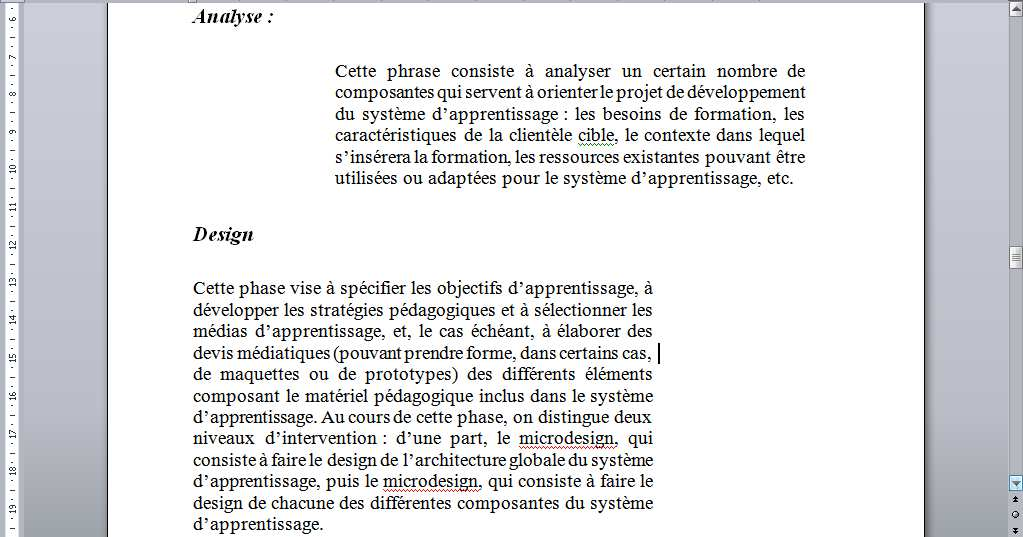texte: (631, 171, 761, 188), (509, 281, 638, 298), (256, 324, 385, 341), (194, 517, 322, 534), (193, 474, 320, 491), (432, 107, 558, 124), (193, 410, 317, 427), (336, 128, 456, 145), (188, 0, 262, 27), (688, 85, 805, 102), (389, 303, 495, 320), (519, 431, 618, 449), (383, 474, 482, 492), (374, 389, 473, 406), (237, 346, 330, 363), (365, 367, 458, 384), (458, 498, 559, 513), (336, 87, 434, 102), (194, 303, 279, 320), (266, 431, 377, 444), (403, 453, 506, 466), (194, 391, 279, 406), (311, 303, 383, 320), (535, 303, 627, 316), (539, 410, 609, 427), (220, 369, 299, 384), (438, 280, 502, 298), (429, 171, 496, 188), (334, 346, 401, 363), (546, 64, 611, 81), (341, 281, 406, 298), (193, 227, 253, 245), (363, 107, 425, 124), (564, 171, 626, 188), (591, 389, 653, 406), (591, 496, 653, 513), (695, 107, 776, 120), (371, 496, 451, 509), (592, 453, 653, 470), (432, 150, 511, 163), (404, 346, 463, 363), (705, 152, 771, 167), (538, 85, 613, 98), (336, 150, 411, 163), (509, 453, 565, 470), (503, 367, 575, 380), (387, 64, 440, 81), (472, 324, 534, 338), (586, 367, 652, 380), (457, 410, 507, 427), (327, 453, 377, 470), (616, 84, 663, 102), (194, 496, 243, 513), (557, 324, 621, 337), (1009, 475, 1023, 534), (624, 152, 699, 163), (509, 128, 572, 141), (305, 389, 368, 402), (335, 171, 397, 184), (519, 474, 581, 487), (272, 496, 334, 509), (193, 431, 254, 444), (239, 281, 285, 298), (717, 64, 777, 77), (645, 129, 710, 141), (760, 128, 805, 145), (603, 107, 661, 120), (578, 128, 618, 146), (539, 154, 619, 163), (193, 324, 247, 337), (467, 346, 516, 360), (452, 66, 514, 77), (194, 455, 256, 466), (654, 64, 706, 77), (560, 348, 618, 359), (466, 87, 522, 98), (479, 389, 524, 402), (397, 431, 441, 444), (450, 433, 487, 448), (194, 346, 233, 359), (502, 175, 540, 188), (615, 410, 652, 423), (336, 65, 376, 77), (194, 282, 234, 294), (717, 128, 752, 141), (521, 346, 556, 359), (531, 389, 566, 402), (272, 453, 306, 466), (601, 474, 635, 487), (326, 478, 359, 491), (417, 411, 452, 423), (629, 431, 653, 448), (489, 474, 513, 491), (290, 281, 321, 294), (349, 414, 390, 423), (777, 150, 805, 163), (437, 89, 462, 102), (628, 324, 652, 337), (468, 367, 492, 380), (340, 496, 364, 509), (321, 411, 345, 423), (623, 350, 651, 360), (768, 173, 792, 184), (784, 107, 804, 120), (515, 150, 535, 163), (411, 281, 431, 294), (284, 303, 304, 316), (632, 303, 652, 316), (336, 107, 355, 120), (576, 107, 595, 120), (569, 453, 588, 466), (566, 496, 585, 509), (464, 128, 482, 141), (338, 367, 356, 380), (788, 64, 805, 77), (667, 85, 684, 98), (670, 107, 687, 120), (194, 367, 211, 380), (394, 410, 411, 423), (381, 453, 398, 466), (249, 496, 266, 509), (440, 328, 463, 337), (394, 326, 411, 338), (489, 128, 503, 141), (414, 150, 428, 163), (622, 68, 642, 77), (513, 414, 533, 423), (404, 175, 423, 184), (310, 371, 329, 380), (625, 128, 638, 141), (545, 171, 558, 184), (419, 324, 432, 337), (286, 389, 299, 402), (572, 389, 585, 402), (497, 431, 510, 444), (309, 453, 322, 466), (365, 474, 378, 487), (640, 474, 653, 487), (502, 305, 515, 316), (526, 64, 534, 77), (526, 85, 534, 98), (327, 281, 335, 294), (645, 281, 653, 294), (521, 303, 529, 316), (543, 324, 551, 337), (587, 474, 594, 487), (268, 13, 273, 23), (658, 343, 660, 364), (9, 17, 16, 21), (9, 92, 16, 96), (9, 130, 16, 134), (9, 505, 16, 509), (565, 111, 567, 120), (384, 435, 386, 444), (10, 75, 15, 76), (10, 112, 15, 113), (10, 377, 15, 378), (10, 415, 15, 416)
